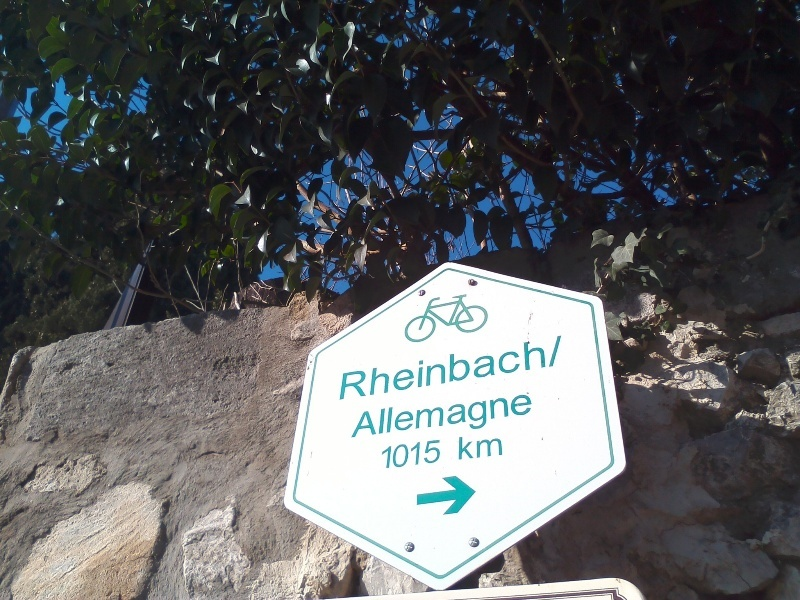text: (353, 333, 368, 402), (369, 333, 384, 402), (385, 333, 400, 402), (401, 333, 416, 402), (417, 333, 432, 402), (433, 333, 448, 402), (449, 333, 464, 402), (465, 333, 480, 402), (481, 333, 496, 402), (497, 333, 512, 402), (513, 333, 528, 402), (529, 333, 544, 402), (545, 333, 560, 402), (341, 333, 352, 402), (369, 392, 384, 442), (385, 392, 400, 442), (401, 392, 416, 442), (417, 392, 432, 442), (433, 392, 448, 442), (449, 392, 464, 442), (465, 392, 480, 442), (481, 392, 496, 442), (497, 392, 512, 442), (513, 392, 528, 442), (385, 439, 400, 470), (401, 439, 416, 470), (417, 439, 432, 470), (465, 434, 480, 462), (481, 434, 496, 462), (361, 392, 368, 442), (433, 439, 442, 470), (561, 333, 564, 402), (529, 392, 533, 442), (497, 434, 504, 462), (458, 434, 464, 462), (382, 439, 384, 470)
